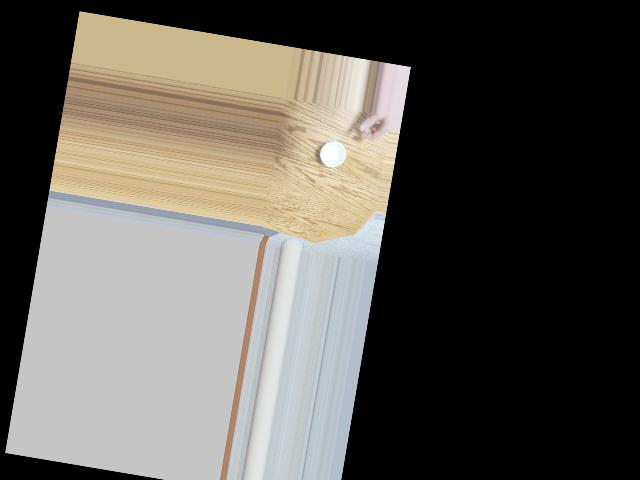cotage: (318, 134, 352, 171)
